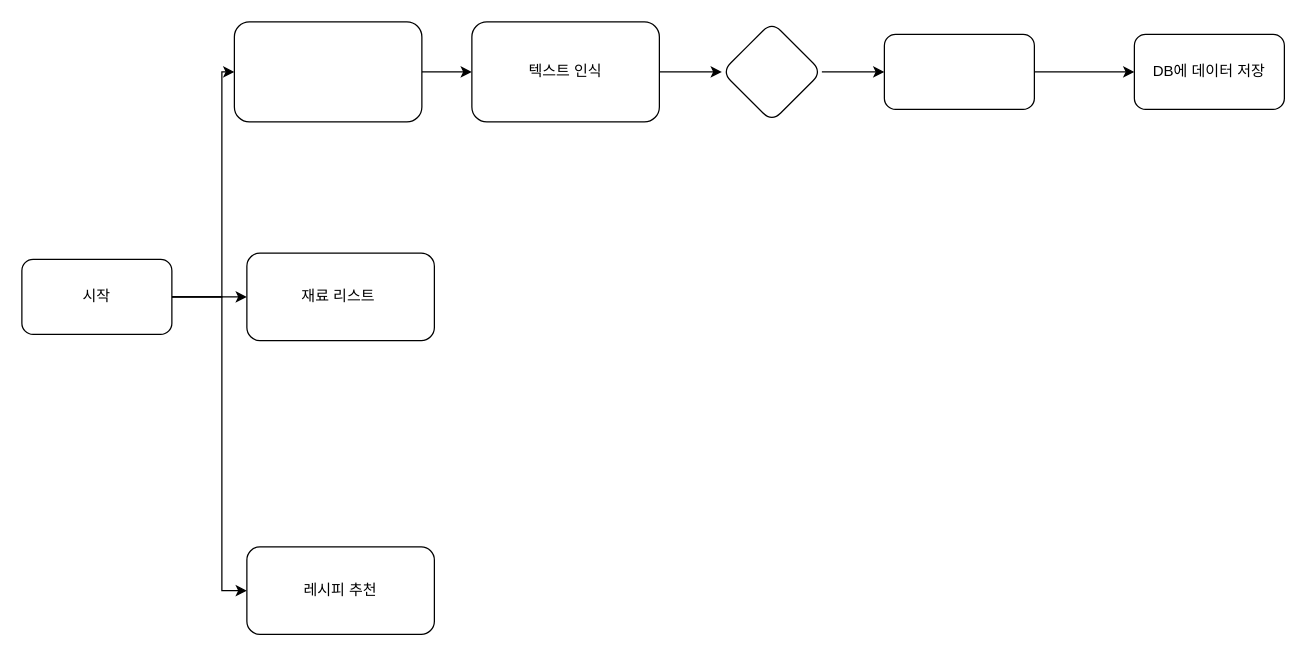
This 1306x656 diagram has some shape labels left out. Here are the shapes that lost their labels. From the top down, the centre of each, then its label:
At point 327,71: "카메라(사진 넣는기능)".
At point 771,71: "음식과 비음식 구분".
At point 958,71: "해당열과 개수로 판단".
